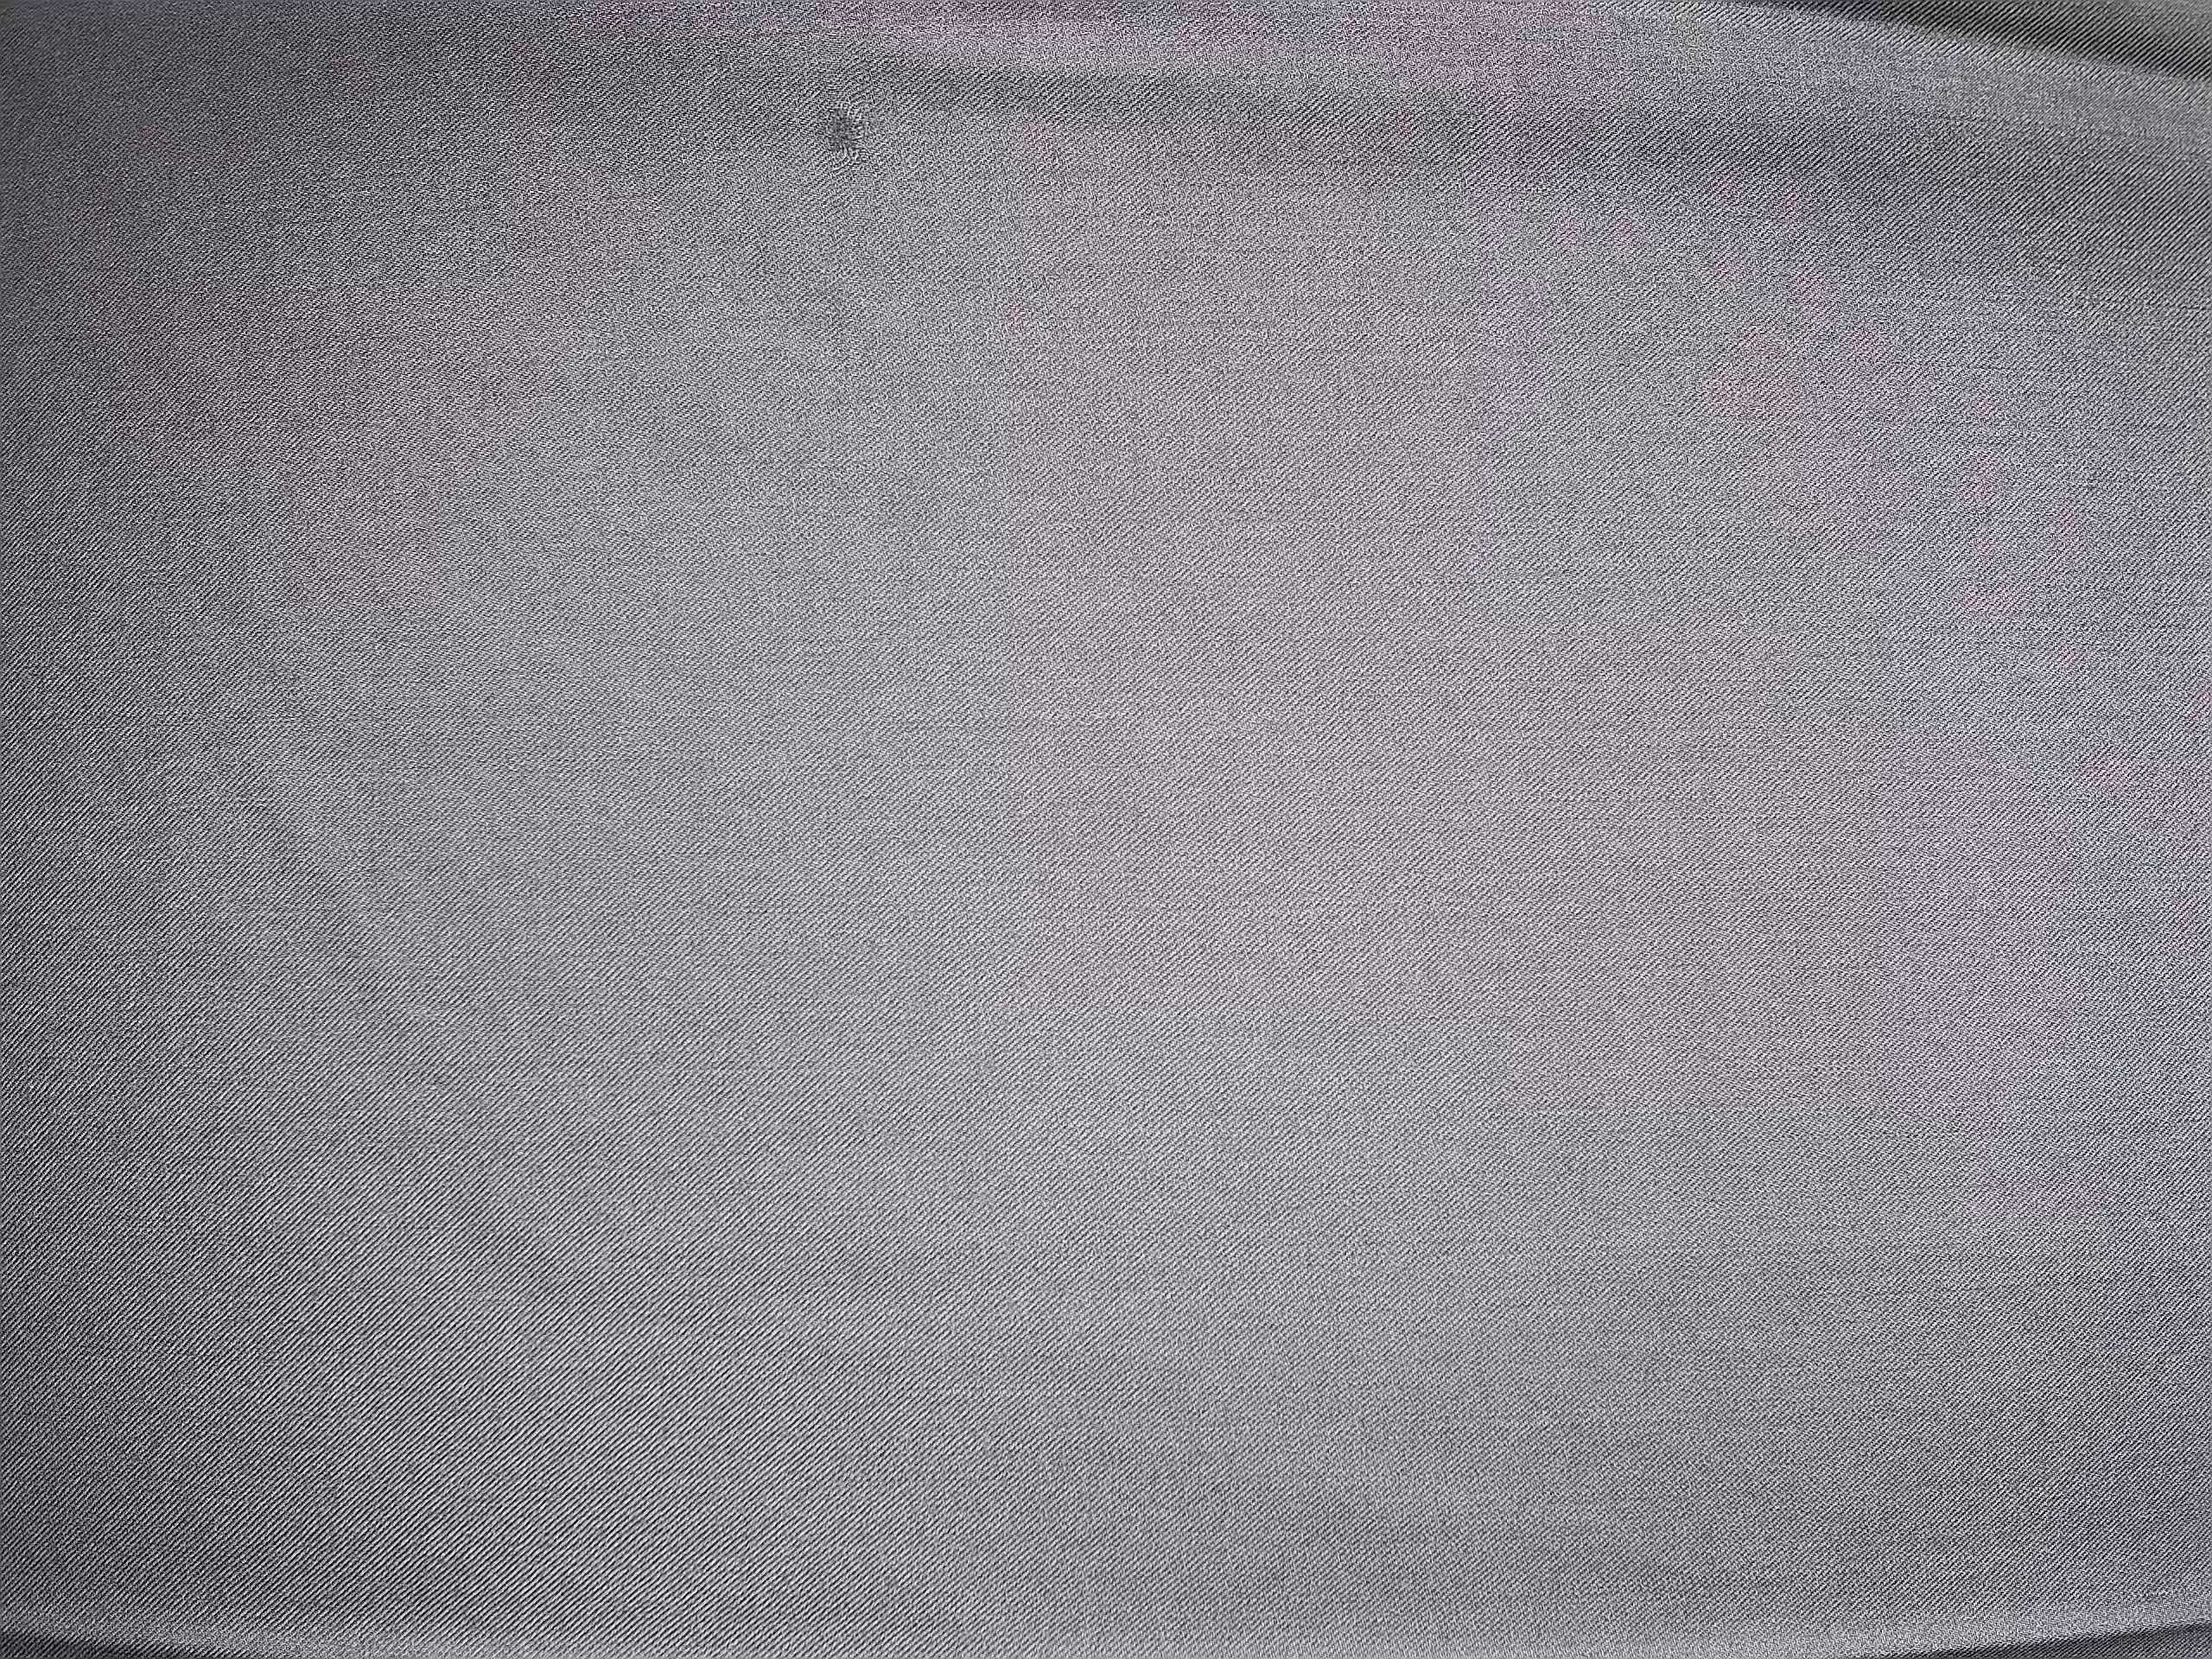puncture-hole: (796, 82, 885, 179)
